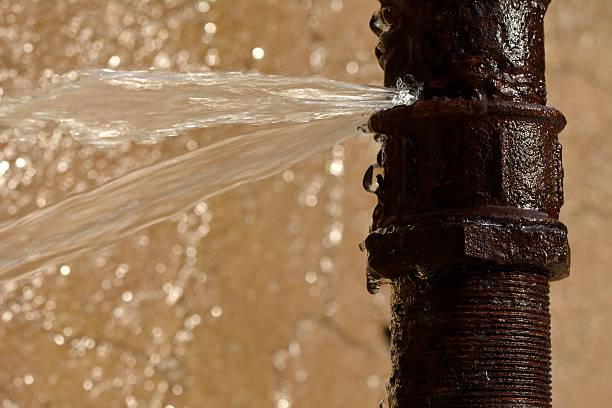rust: (361, 2, 572, 408)
